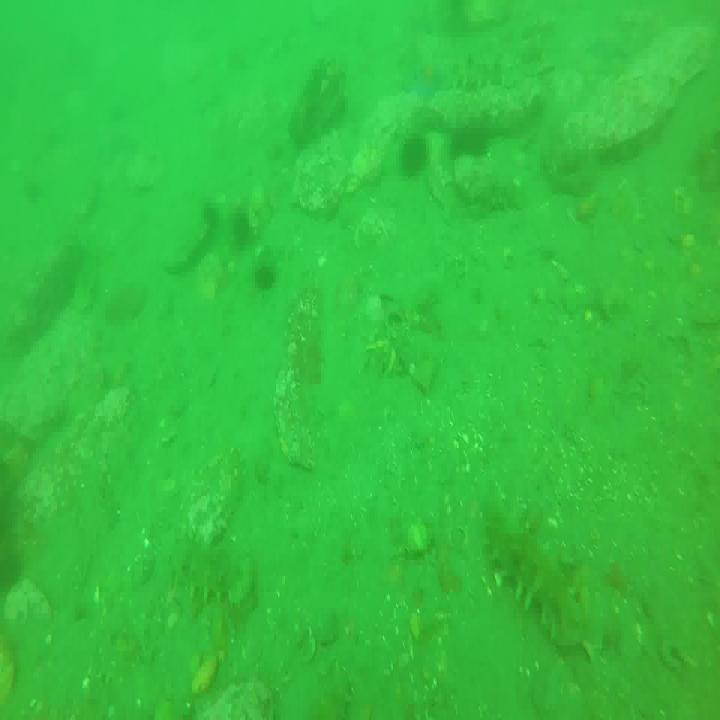echinus: (452, 125, 486, 161), (399, 136, 428, 178), (255, 262, 279, 292), (233, 209, 252, 246)
holothurian: (486, 497, 586, 651), (167, 531, 257, 603), (452, 51, 505, 89)
starfish: (408, 59, 446, 103)
